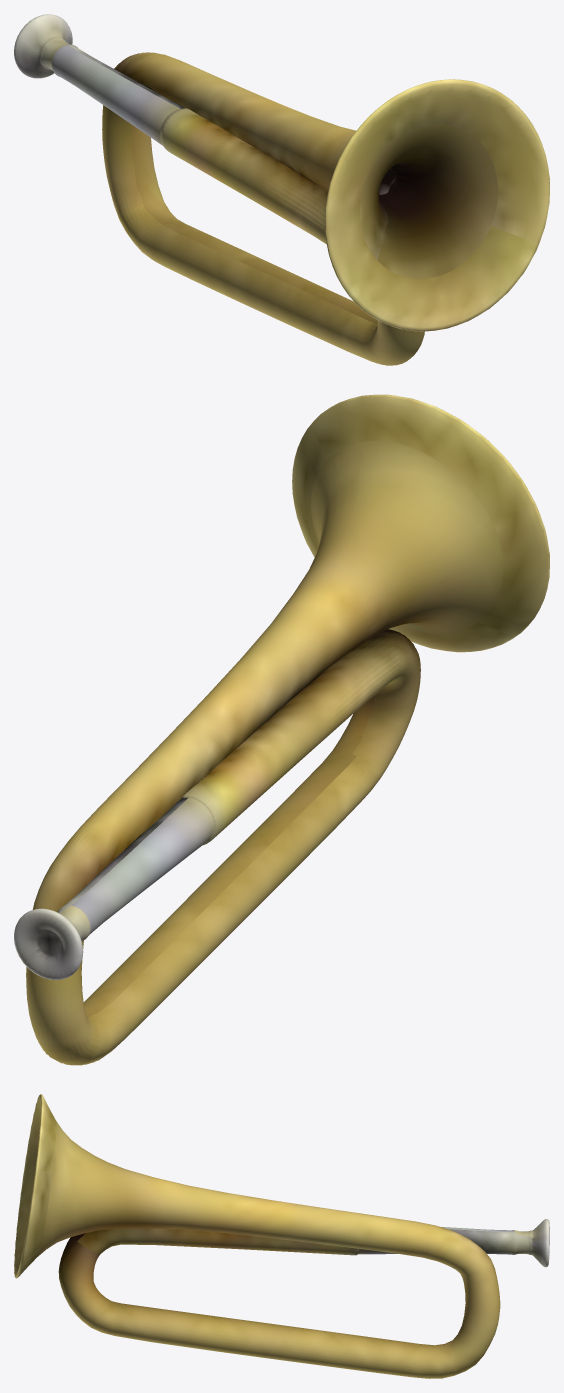
File: MZ4250 - Bugle.glb
The picture shows the model from 3 angles, top to bottom: view 1: azimuth 30°, elevation 25°; view 2: azimuth 150°, elevation 25°; view 3: azimuth 270°, elevation 25°; orthographic projection. The views are drawn at different scales.
Visible parts, largest first — view 1: Bugle.002; view 2: Bugle.002; view 3: Bugle.002.
Part boxes in pixels (x1=…): Bugle.002: x1=14, y1=14, x2=549, y2=365; Bugle.002: x1=14, y1=394, x2=549, y2=1065; Bugle.002: x1=14, y1=1094, x2=549, y2=1378.
Bounding box in the file's own units: 2.54 × 4.1 × 7.32.
Materials: 1 (1 with a texture image).
